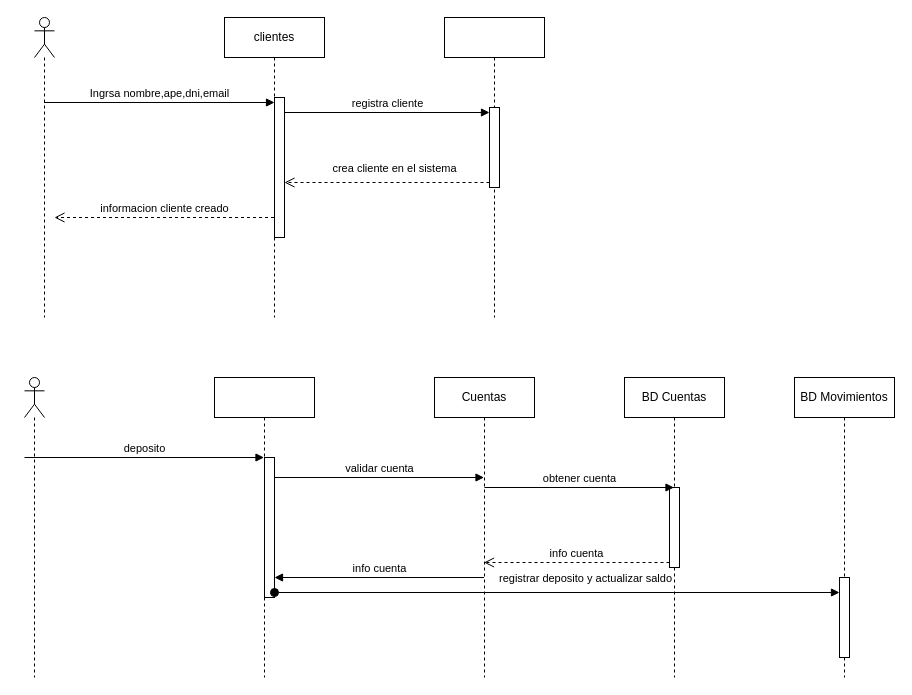
Image size: 912x695. Some labels were removed from this diagram. The box of each missing label's shape, as (x1, y1, x2, y2) in pixels:
BD Clientes: (444, 16, 544, 318)
Movimientos: (214, 376, 314, 678)
